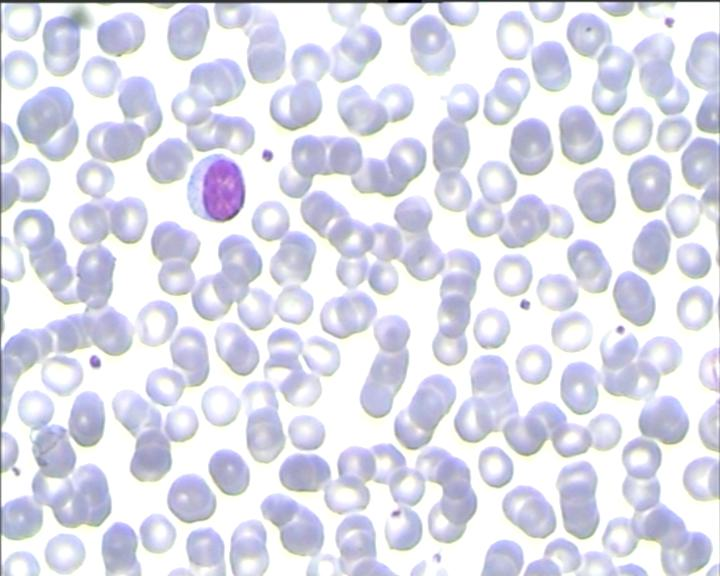lymp: (180, 149, 251, 232)
